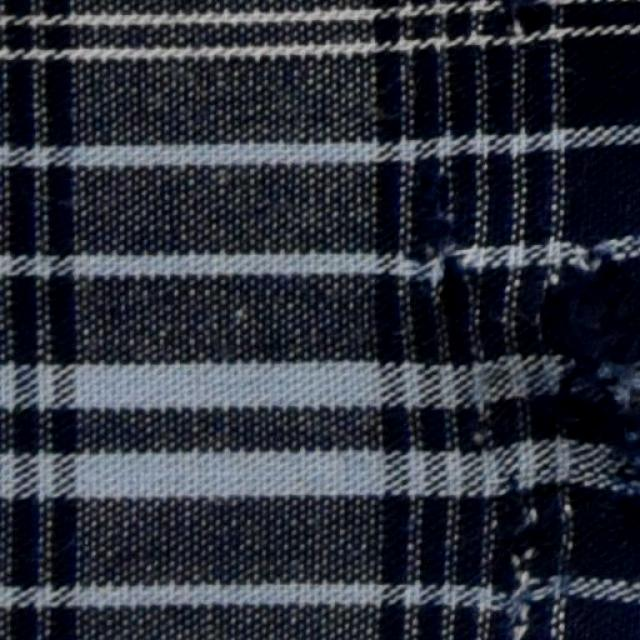Snag: (562, 229, 639, 455), (398, 191, 496, 293)
